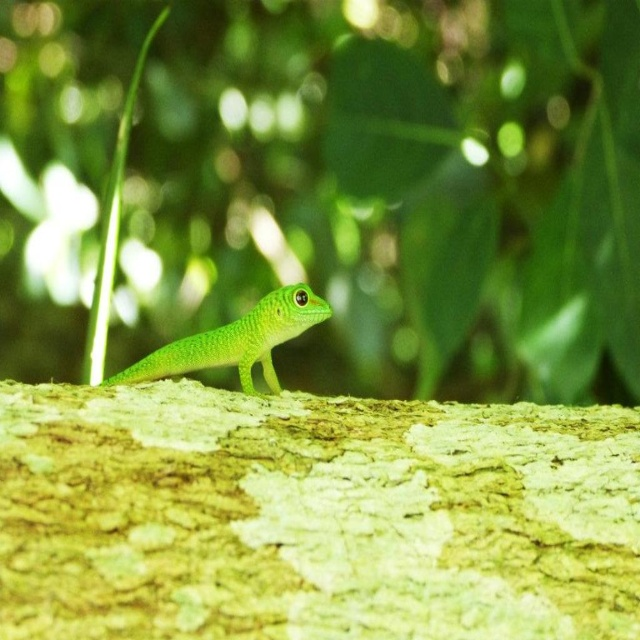Lizard: (115, 281, 343, 408)
